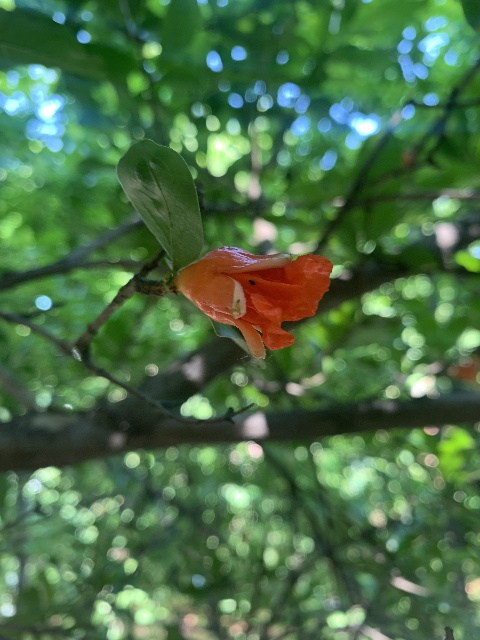flower: (175, 247, 333, 357)
